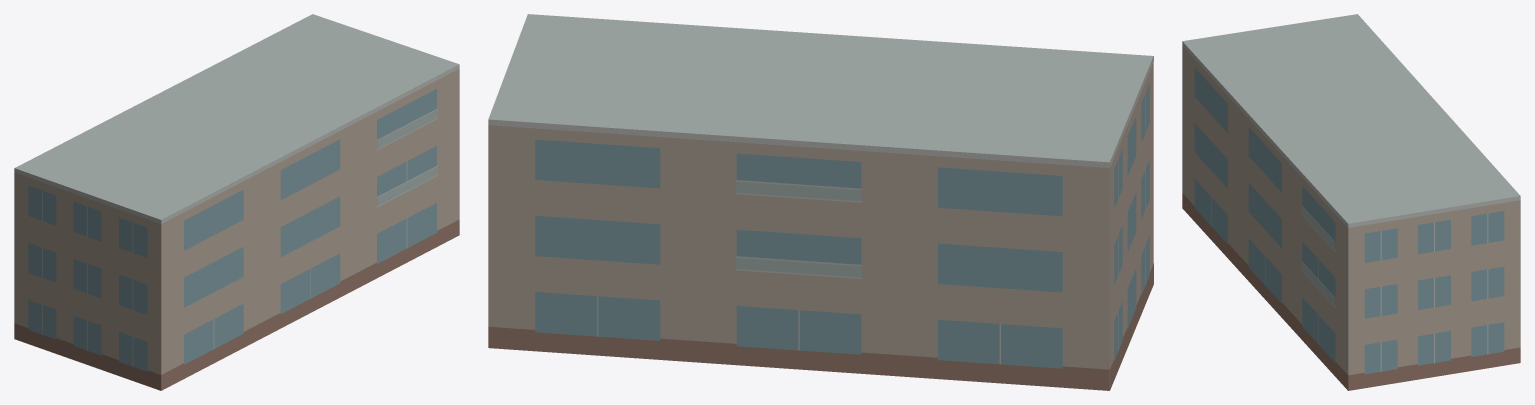
The model's file is survey-upis-32731637.glb.
The picture shows the model from 3 angles, left to right: view 1: azimuth 30°, elevation 25°; view 2: azimuth 150°, elevation 25°; view 3: azimuth 270°, elevation 25°; orthographic projection. The views are drawn at different scales.
Visible parts, largest first — view 1: survey-upis-32731637.tmp; view 2: survey-upis-32731637.tmp; view 3: survey-upis-32731637.tmp.
Boxes of the visible parts, bbox=[...] form: survey-upis-32731637.tmp: bbox=[14, 14, 459, 390]; survey-upis-32731637.tmp: bbox=[488, 14, 1153, 390]; survey-upis-32731637.tmp: bbox=[1182, 14, 1520, 390].
Bounding box in the file's own units: 26.15 × 9.7 × 17.82.
